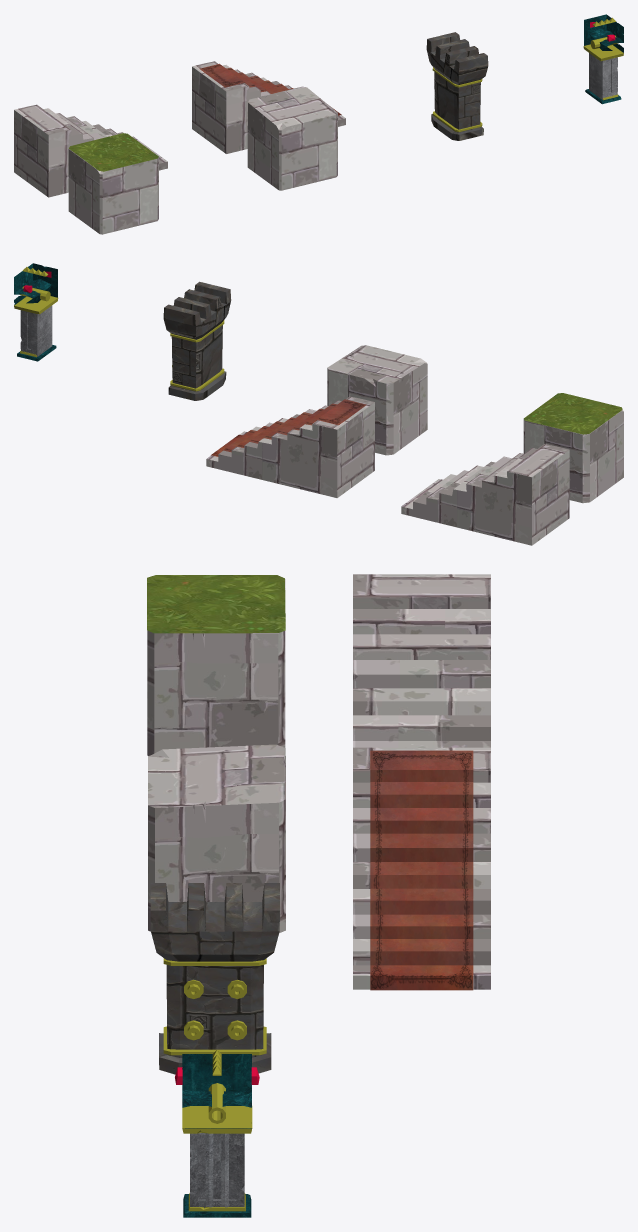
Rendered from GodotTilePack2.glb.
The picture shows the model from 3 angles, top to bottom: view 1: azimuth 30°, elevation 25°; view 2: azimuth 150°, elevation 25°; view 3: azimuth 270°, elevation 25°; orthographic projection. The views are drawn at different scales.
Parts seen in each view (by area): view 1: CubeStoneTilted, GrassBlock, StoneStairs, CarpetStairs, Decoration, FireTrap; view 2: CarpetStairs, StoneStairs, GrassBlock, CubeStoneTilted, Decoration, FireTrap; view 3: CarpetStairs, GrassBlock, StoneStairs, CubeStoneTilted, Decoration, FireTrap.
Part boxes in pixels (x1,y1,x2,y2): CubeStoneTilted: (247,86,337,190); GrassBlock: (68,133,158,234); StoneStairs: (14,104,167,197); CarpetStairs: (192,61,345,153); Decoration: (426,32,488,140); FireTrap: (583,14,623,104); CarpetStairs: (206,396,374,497); StoneStairs: (401,444,569,545); GrassBlock: (523,393,623,503); CubeStoneTilted: (327,345,427,455); Decoration: (163,281,231,400); FireTrap: (14,263,58,361); CarpetStairs: (353,747,490,990); GrassBlock: (147,575,285,755); StoneStairs: (353,574,490,747); CubeStoneTilted: (148,744,285,932); Decoration: (150,883,279,1074); FireTrap: (175,1050,259,1217).
Size of the model in its own units: 17.9 by 2.7 by 4.98.
Materials: 9 (7 with a texture image).
